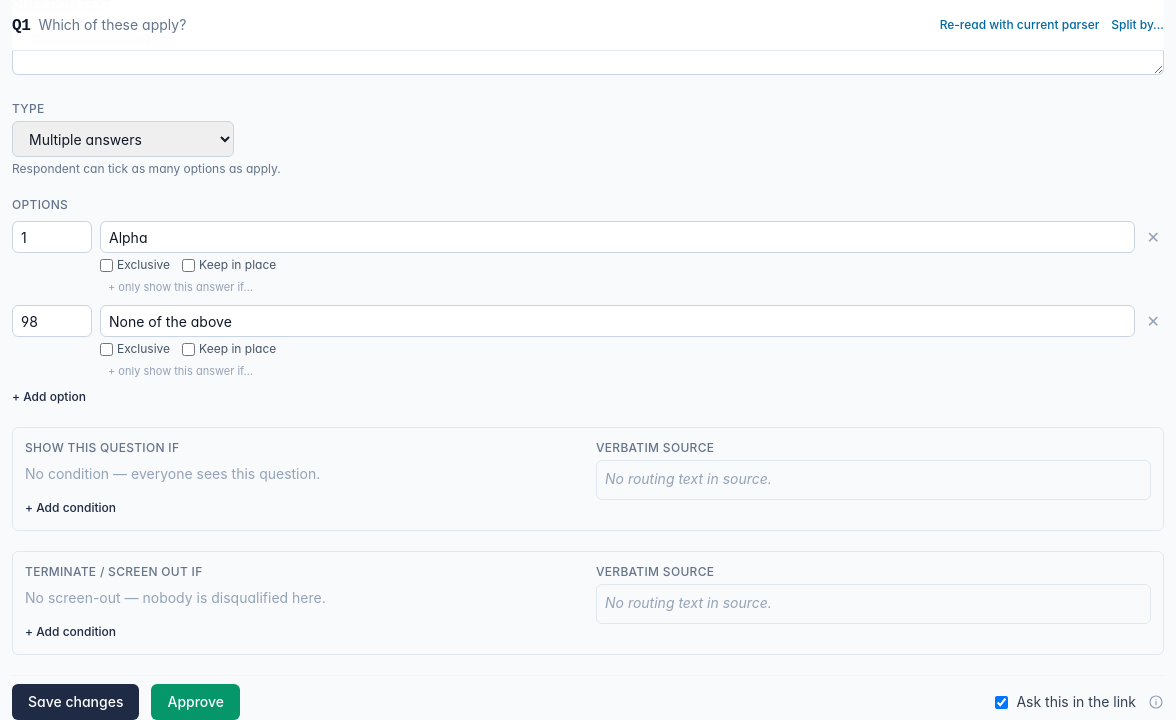
leaving a question out, deleting it, and its routing text › switches a question out of the link and shows who depends on it when refused
(page scrolled)
Click the checkbox labelled "Ask this in the link".
click(1002, 702)  # box [996, 696, 1008, 708]
(page scrolled)
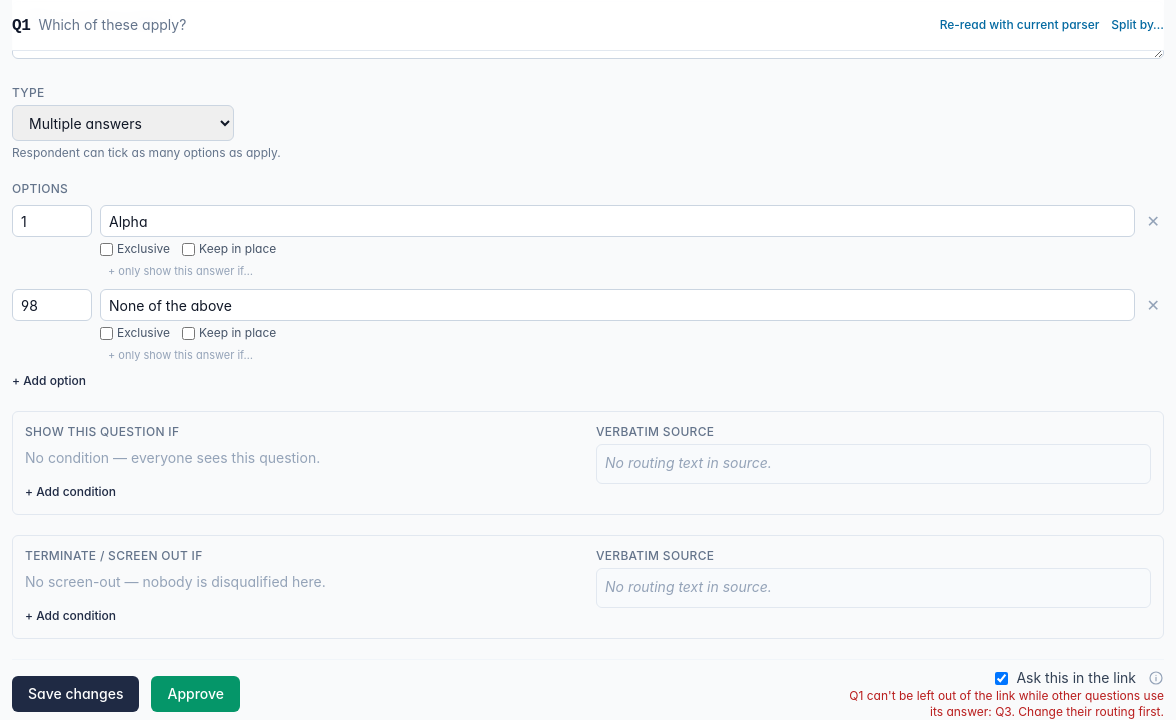
Expected: the text "use its answer: Q3. Change their routing first." is shown, [849, 688, 1164, 719]
